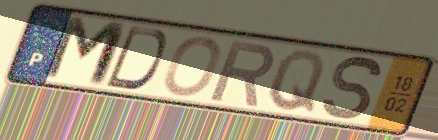D: (102, 24, 170, 92)
M: (39, 13, 132, 91)
O: (160, 35, 224, 98)
Q: (265, 48, 328, 116)
R: (207, 38, 279, 109)
S: (320, 54, 385, 123)
